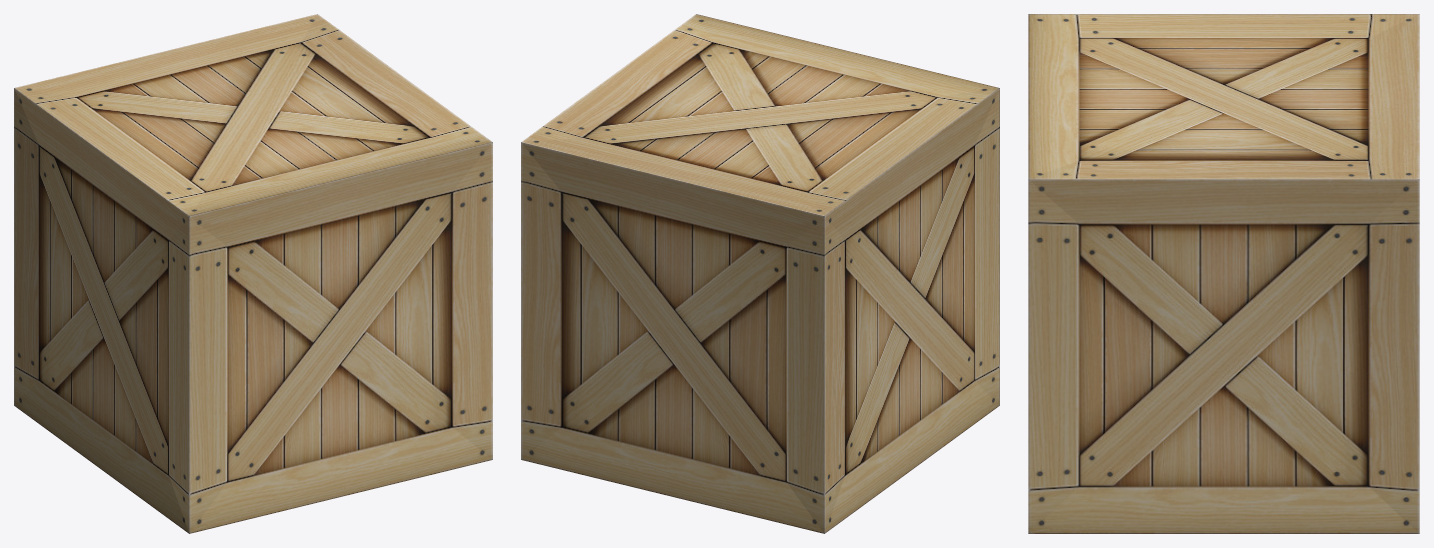
File: Caja_V3.fbx
The picture shows the model from 3 angles, left to right: view 1: azimuth 30°, elevation 25°; view 2: azimuth 150°, elevation 25°; view 3: azimuth 270°, elevation 25°; orthographic projection. The views are drawn at different scales.
Parts seen in each view (by area): view 1: Caja; view 2: Caja; view 3: Caja.
Part boxes in pixels (<box>): Caja: <box>14,14,492,533</box>; Caja: <box>521,14,999,533</box>; Caja: <box>1028,14,1419,533</box>.
Bounding box in the file's own units: 200 × 200 × 200.
Materials: 1 (1 with a texture image).
